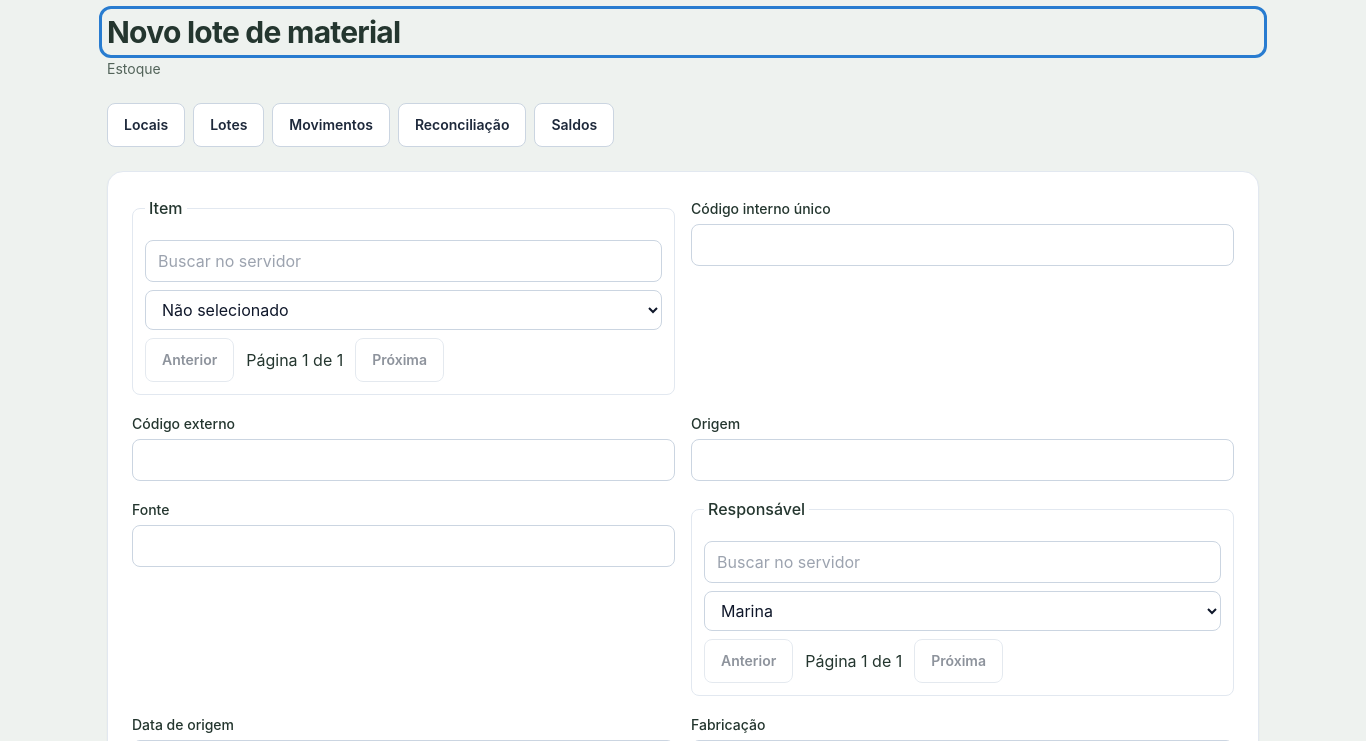
Scenario: Cadastros e consultas de estoque › cria lote com revisão do Item e responsáveis sem sintetizar saldo ou validade
Select "MIL — Milho · kg" in the 1st dropdown named "Selecionar Item" at [404, 310], box [145, 290, 662, 330]
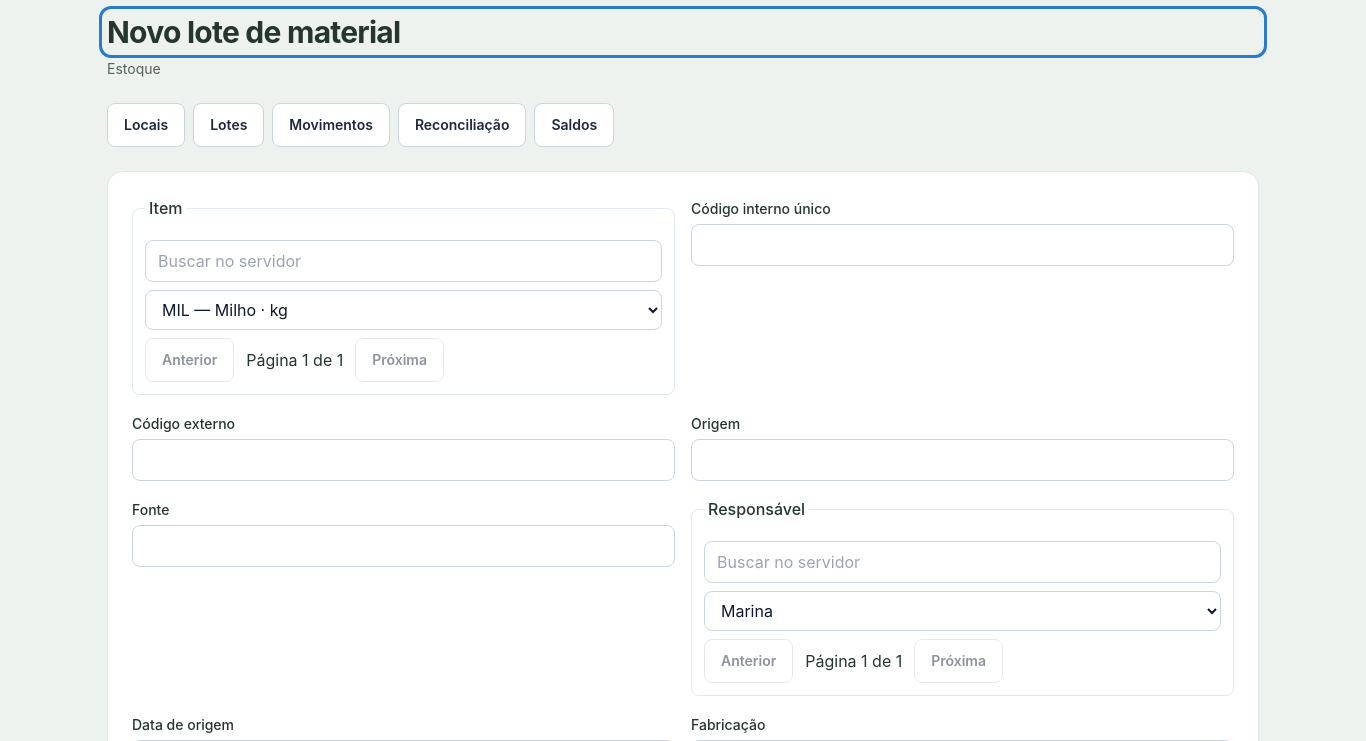
Type "MIL-01" into the field labelled "Código interno único" at [962, 245], box [691, 224, 1234, 266]
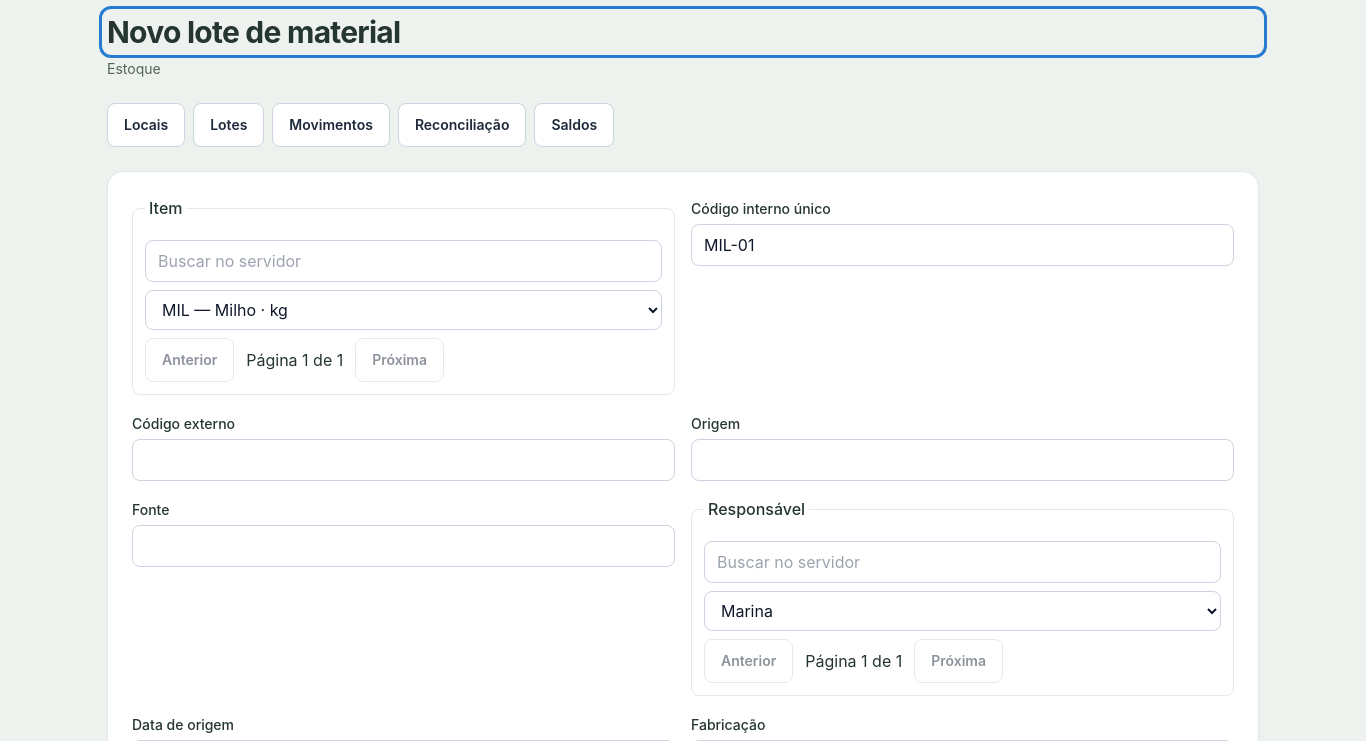
Type "Recebimento" into the field labelled "Origem" at [962, 460], box [691, 439, 1234, 481]
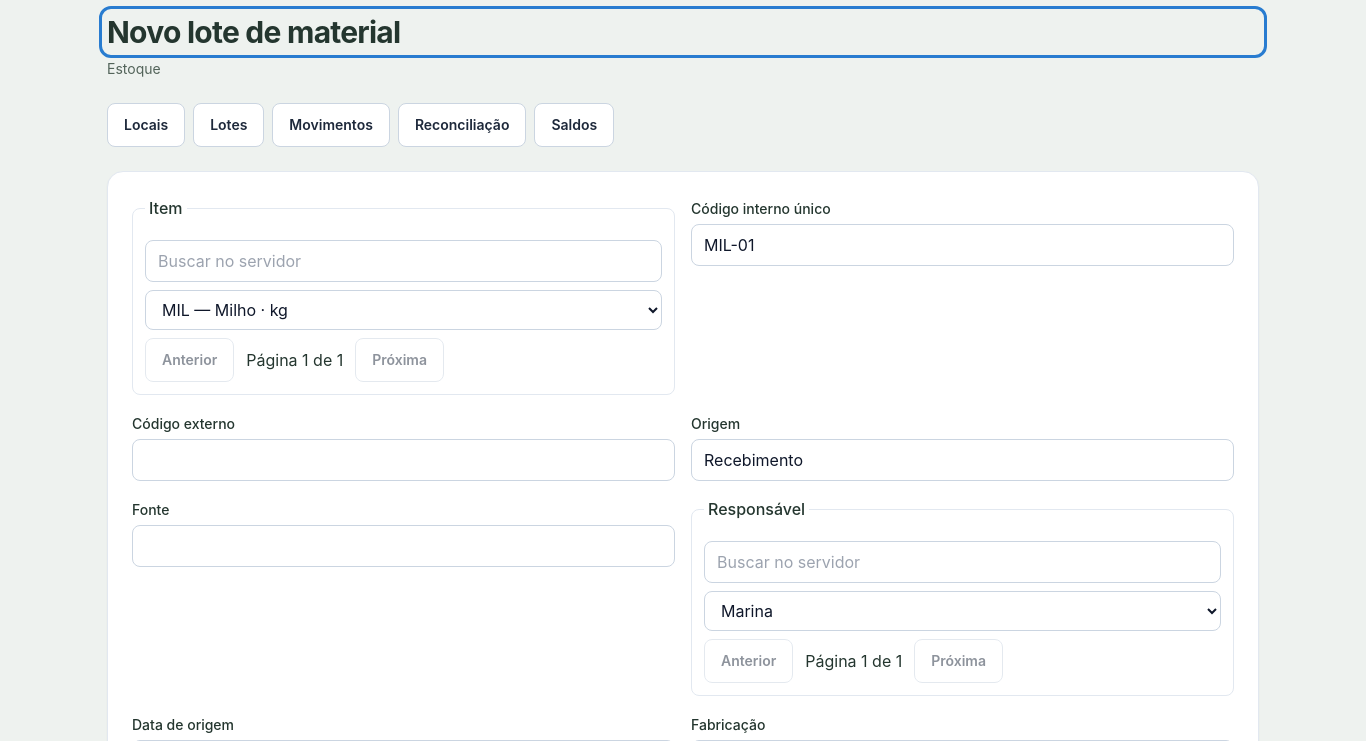
Type "Documento 01" into the field labelled "Fonte" at [404, 546], box [132, 525, 675, 567]
(page scrolled)
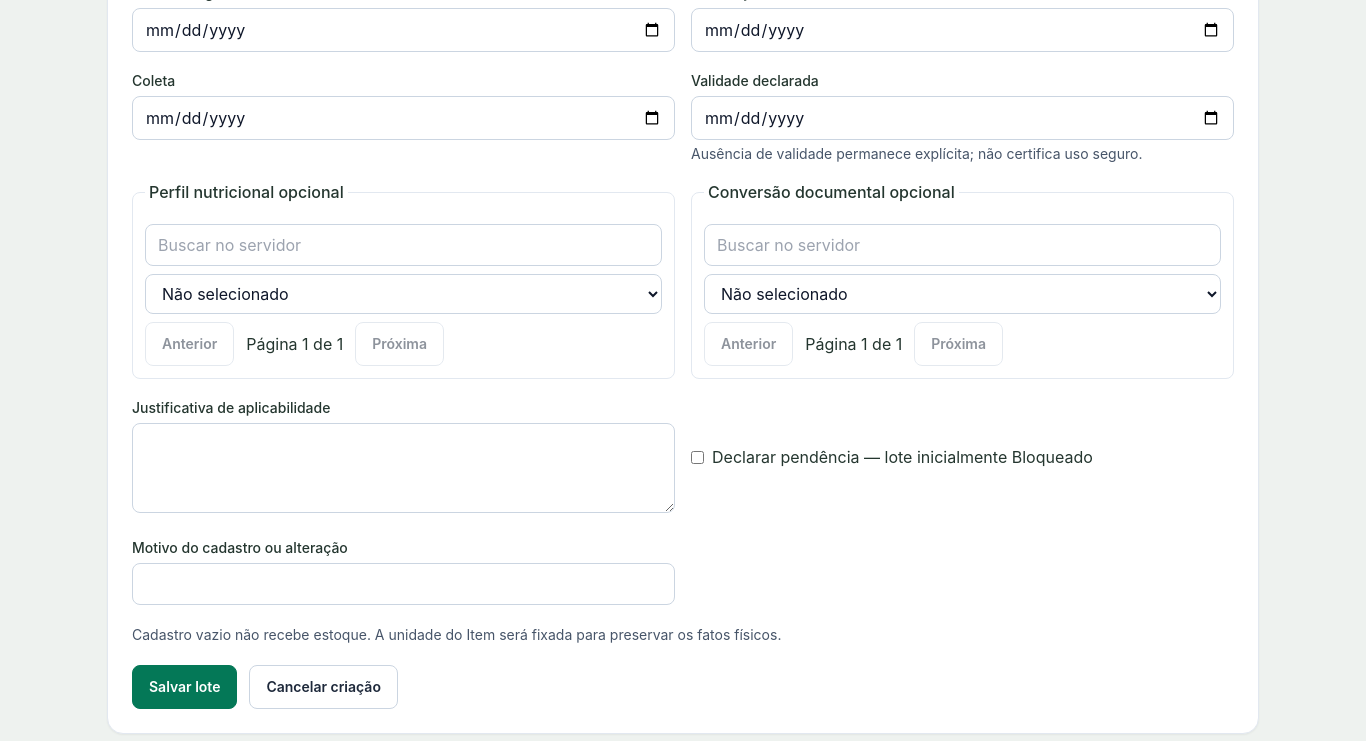
Check: the button "Salvar lote" is enabled
Click the button "Salvar lote" at [185, 687], box [132, 665, 237, 709]
(page scrolled)
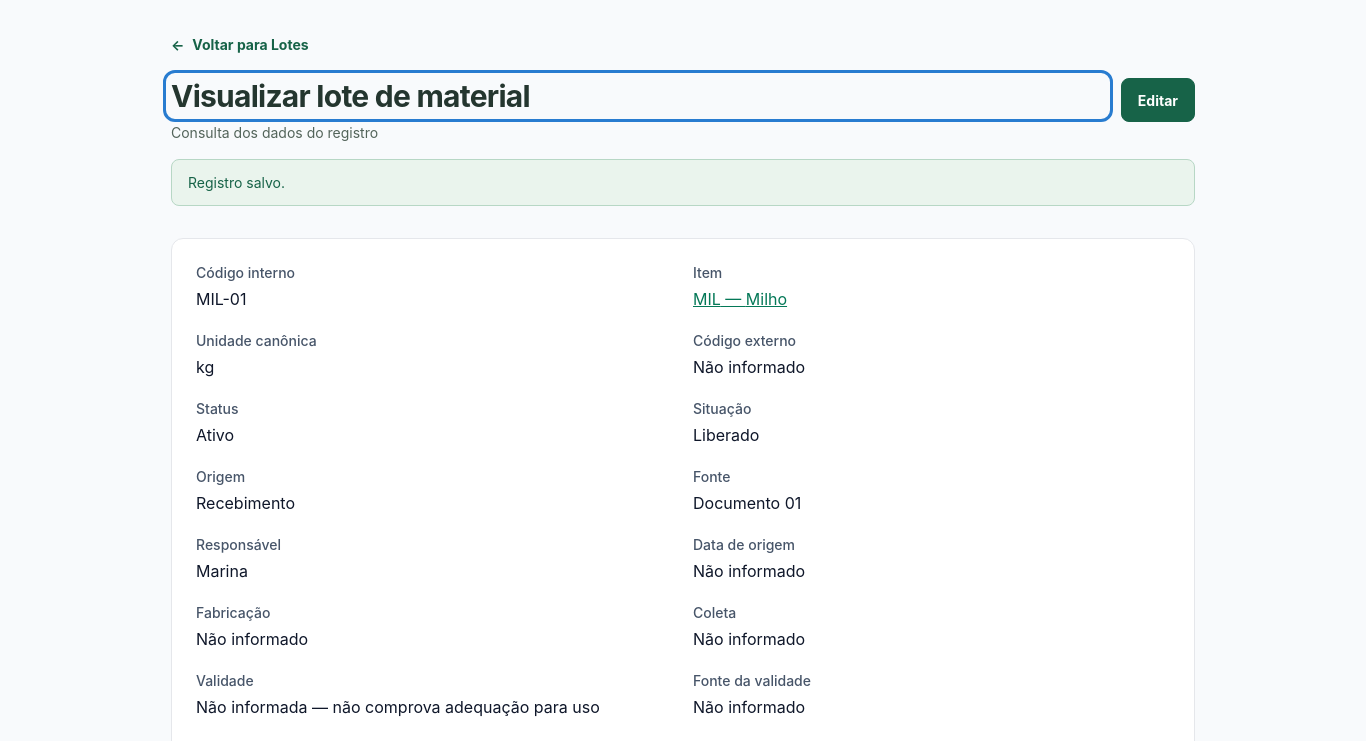
Check: the heading "Visualizar lote de material" is shown, box [171, 78, 530, 114]
